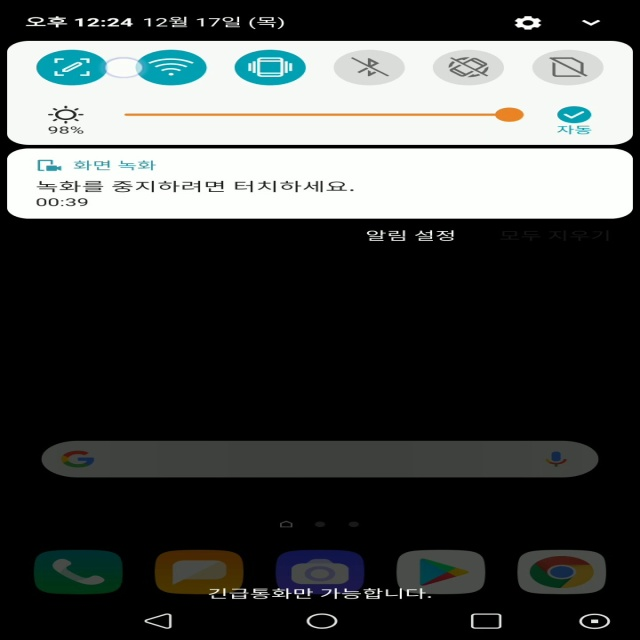Cursor: (103, 57, 147, 80)
